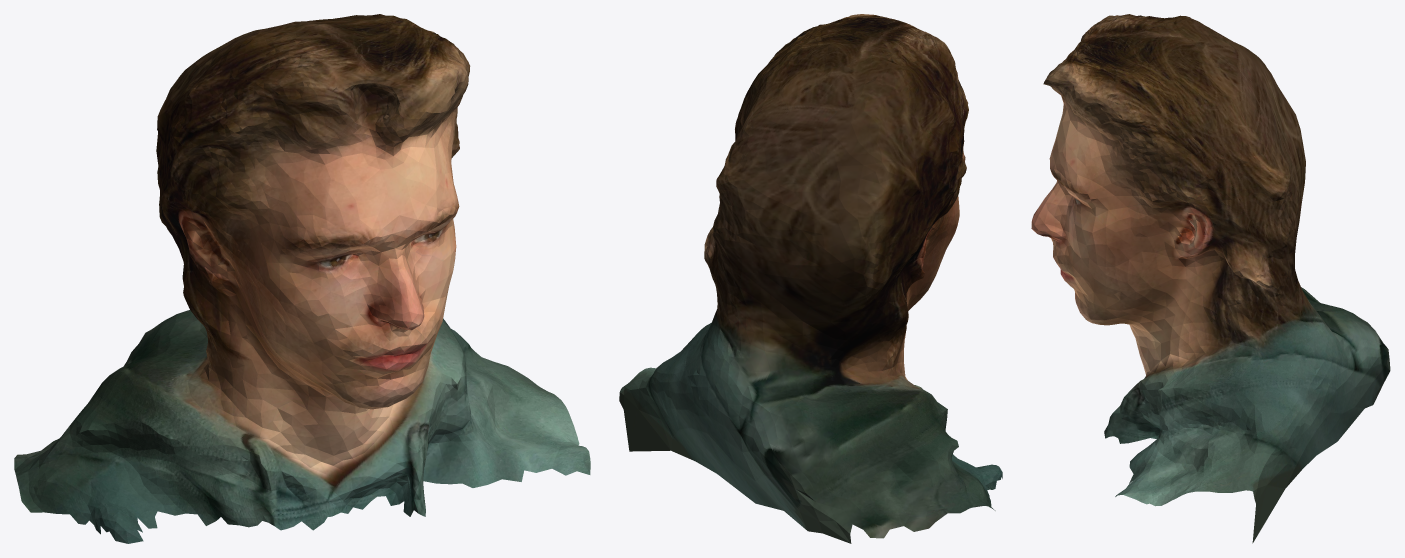
3 renders of one model, left to right at view 1: azimuth 30°, elevation 25°; view 2: azimuth 150°, elevation 25°; view 3: azimuth 270°, elevation 25°, orthographic. The views are drawn at different scales.
Size of the model in its own units: 0.6597 by 0.6794 by 0.5292.
Materials: 1 (1 with a texture image).
